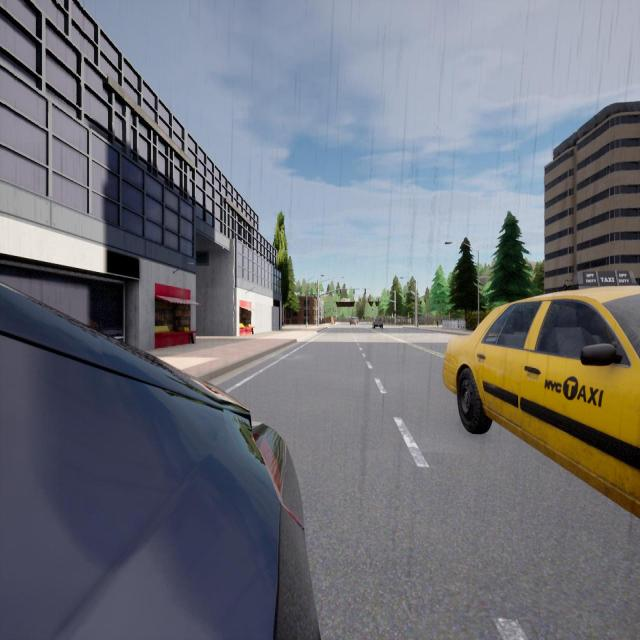Vehicle: (0, 285, 319, 640), (443, 285, 639, 517), (372, 317, 383, 329), (349, 317, 356, 325)
traffic_light: (394, 310, 396, 314), (340, 289, 341, 295), (365, 289, 366, 294), (404, 293, 405, 298), (368, 298, 369, 302), (360, 298, 360, 301), (378, 298, 378, 301), (354, 289, 354, 294)
